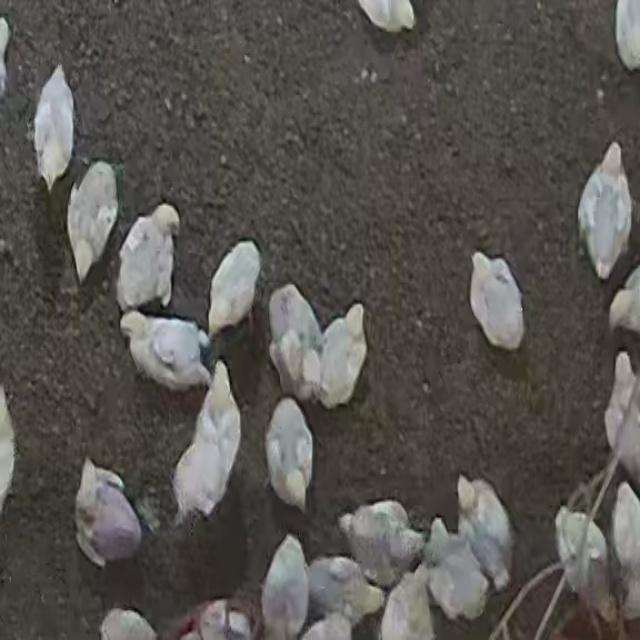chicken: (172, 364, 243, 525), (119, 306, 214, 396), (555, 500, 618, 624), (577, 141, 631, 281), (116, 202, 182, 314), (341, 500, 424, 588), (75, 458, 142, 567), (456, 476, 514, 595), (423, 521, 488, 623), (268, 285, 324, 403), (66, 162, 120, 284), (206, 237, 264, 342), (303, 553, 391, 621), (265, 396, 314, 516), (469, 252, 525, 352), (32, 62, 73, 192), (317, 306, 368, 409), (261, 532, 310, 638), (602, 354, 640, 472), (609, 483, 640, 622), (382, 566, 434, 640)
